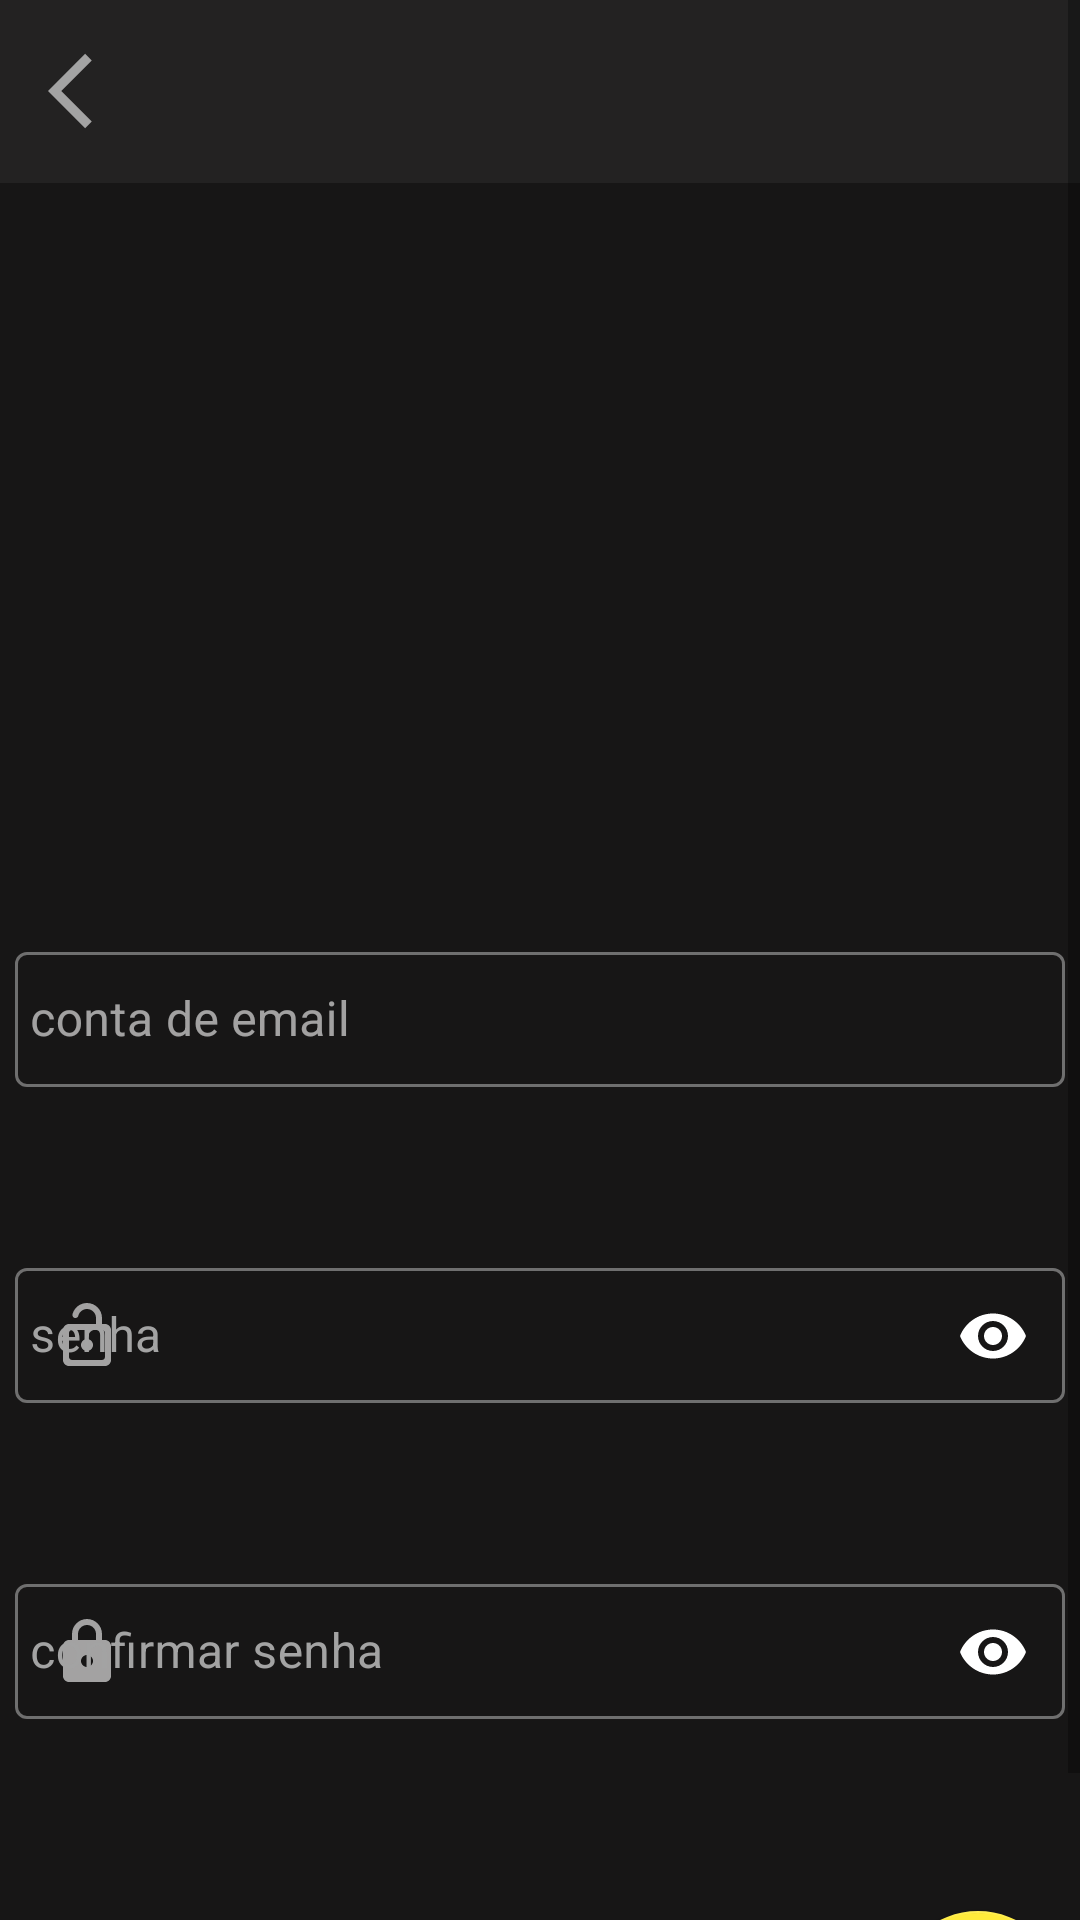

Icon click points for this 1080×1920 phone screenshot, format (x=x, y=y):
voltar: (x=70, y=91)
